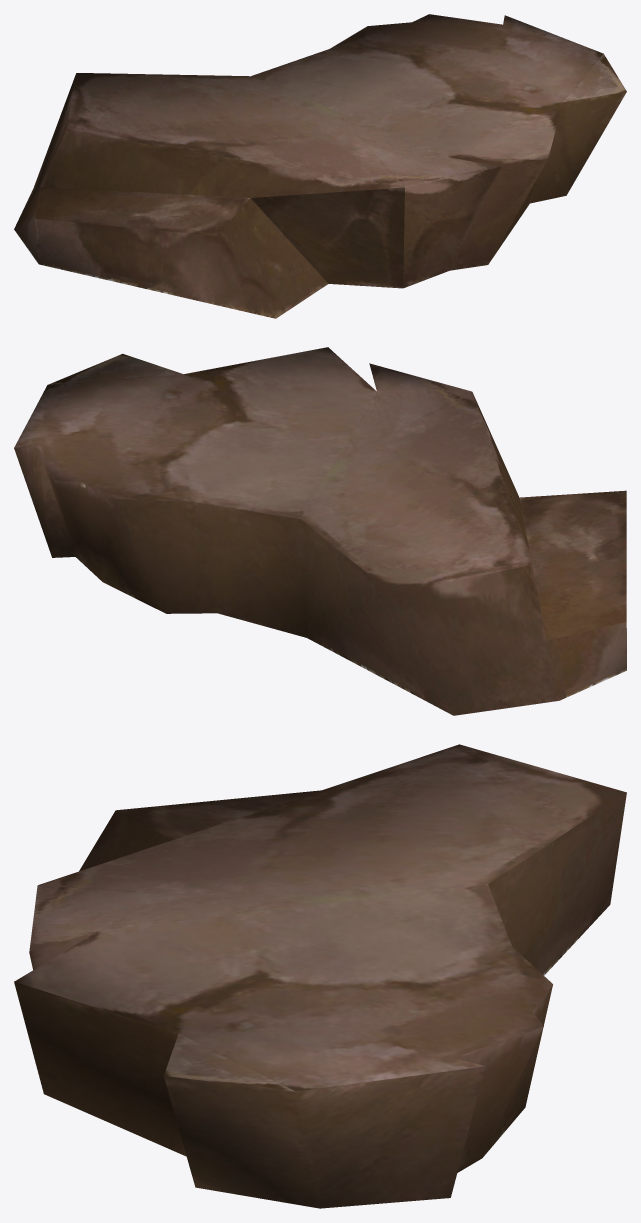
Rendered from Lty_xiaoshitou01.FBX.
3 renders of one model, top to bottom at view 1: azimuth 30°, elevation 25°; view 2: azimuth 150°, elevation 25°; view 3: azimuth 270°, elevation 25°, orthographic. The views are drawn at different scales.
Visible parts, largest first — view 1: Lty_xiaoshitou01; view 2: Lty_xiaoshitou01; view 3: Lty_xiaoshitou01.
Part boxes in pixels (bbox=[...]): Lty_xiaoshitou01: bbox=[14, 14, 626, 318]; Lty_xiaoshitou01: bbox=[14, 347, 626, 715]; Lty_xiaoshitou01: bbox=[14, 744, 626, 1208].
Size of the model in its own units: 415 by 277 by 73.81.
